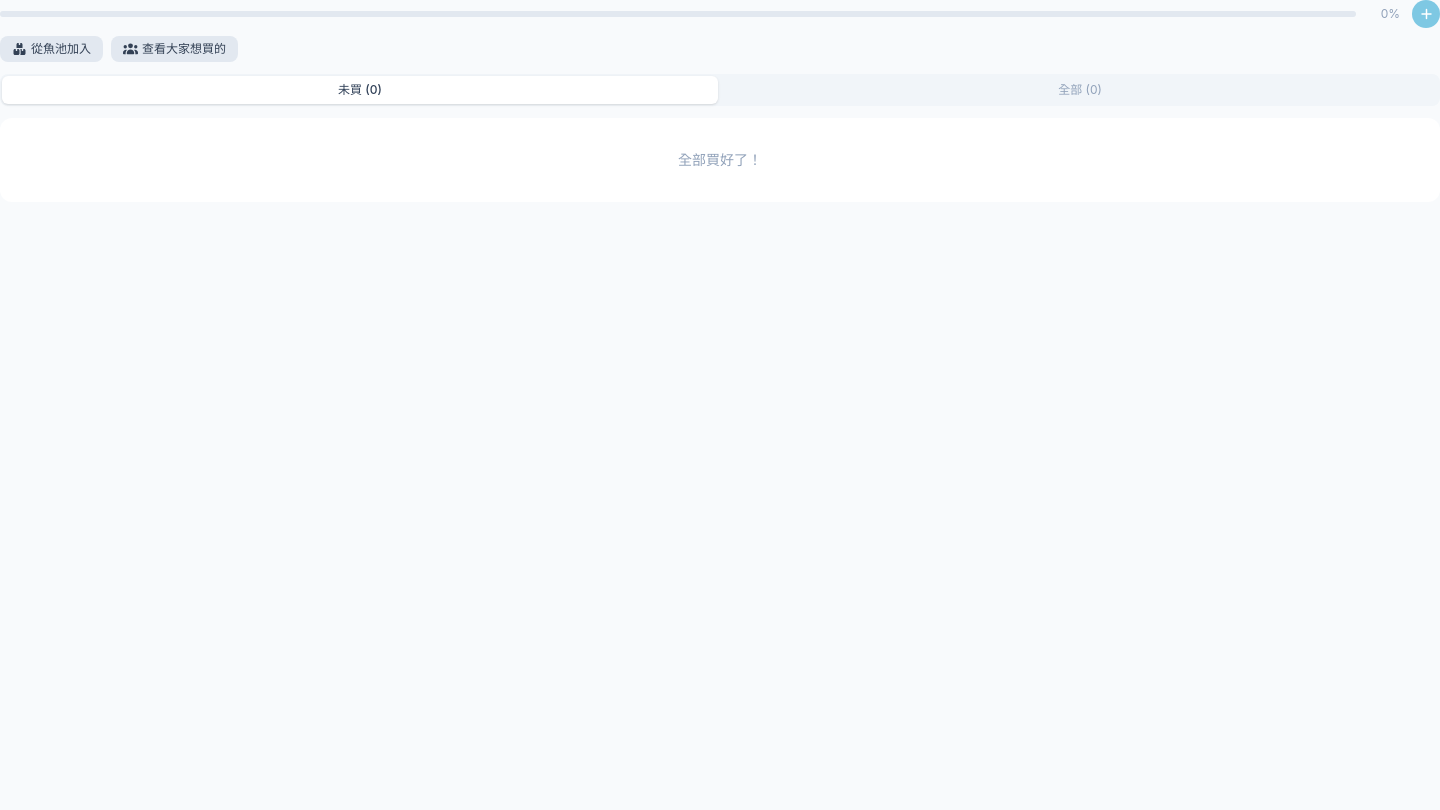
ShoppingTab › defaults the add-from-pool filter to the trip country and matches any selected tag
Click the button "從魚池加入".
click(52, 49)  # box left=0, top=36, right=103, bottom=62
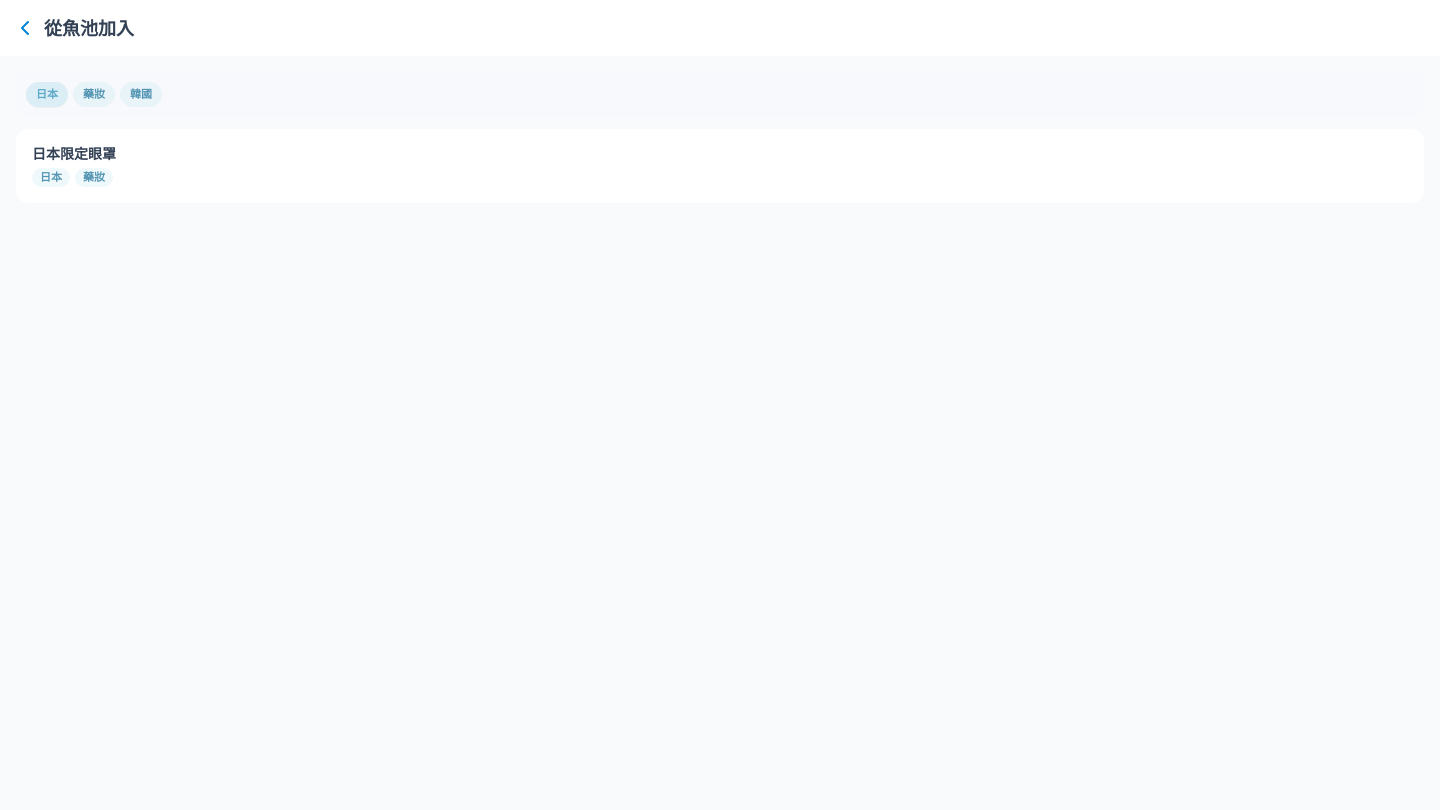
Expected: the element with class "fullscreen-modal-body" does not show "韓國保養品"
Result: the element with class "fullscreen-modal-body" shows "日本限定眼罩" at left=16, top=129, right=1424, bottom=202
Result: the button "韓國" is shown
Click the button "韓國".
click(141, 94)  # box left=120, top=82, right=162, bottom=107
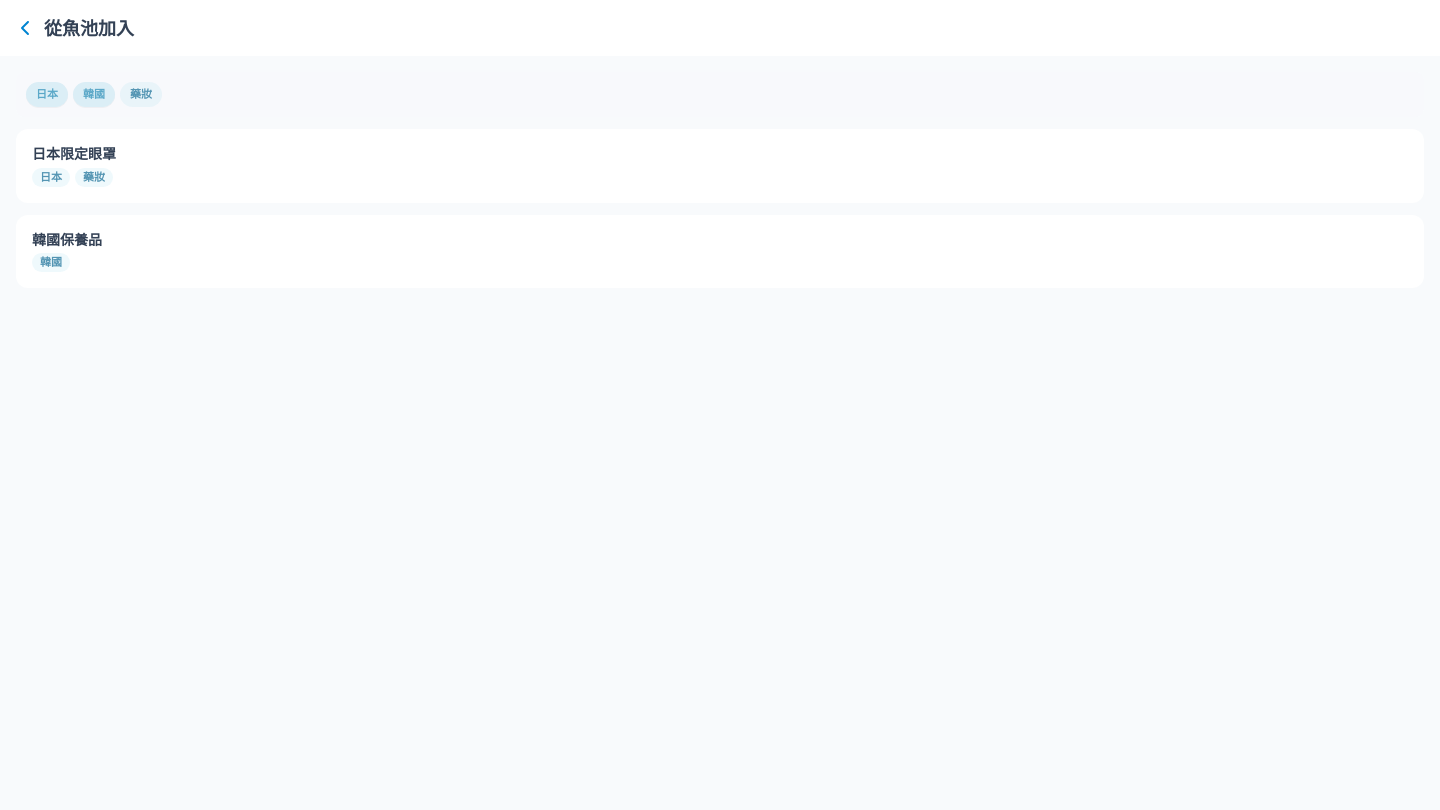
Result: the element with class "fullscreen-modal-body" shows "日本限定眼罩" at left=16, top=129, right=1424, bottom=202
Result: the element with class "fullscreen-modal-body" shows "韓國保養品" at left=16, top=215, right=1424, bottom=288
